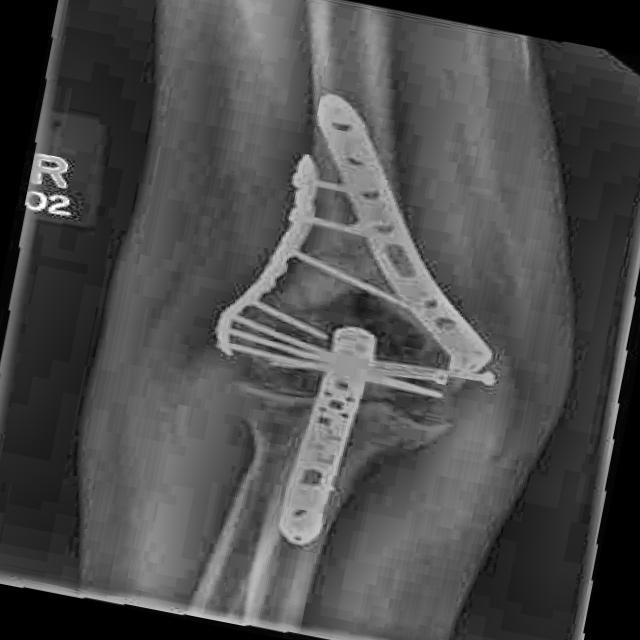elbow positive: (263, 263, 377, 338)
